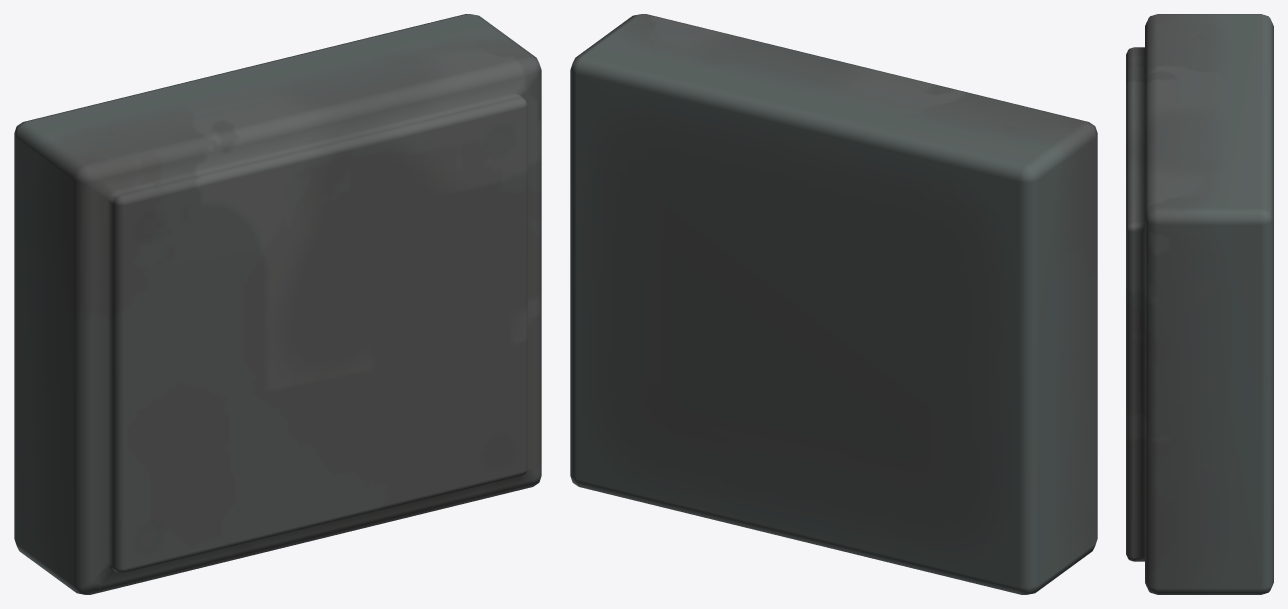
The model's file is Env_WiresBox_02.fbx.
3 renders of one model, left to right at view 1: azimuth 30°, elevation 25°; view 2: azimuth 150°, elevation 25°; view 3: azimuth 270°, elevation 25°, orthographic. The views are drawn at different scales.
Visible parts, largest first — view 1: Env_WiresBox_02; view 2: Env_WiresBox_02; view 3: Env_WiresBox_02.
Boxes of the visible parts, <box> form: Env_WiresBox_02: <box>14,14,541,594</box>; Env_WiresBox_02: <box>570,14,1097,594</box>; Env_WiresBox_02: <box>1126,14,1273,594</box>.
Bounding box in the file's own units: 20.65 × 18.2 × 6.31.
